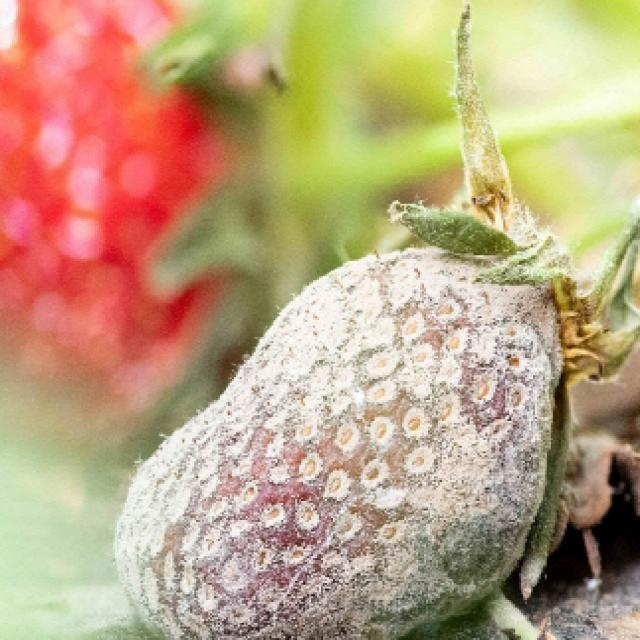Gray Mold: (111, 0, 640, 640)
